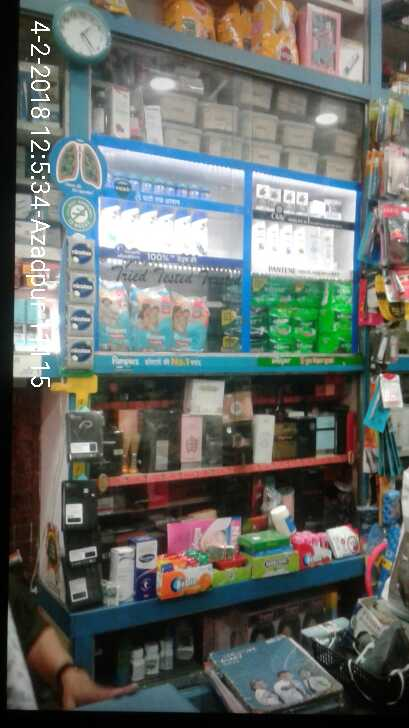vicks: (108, 167, 213, 200)
